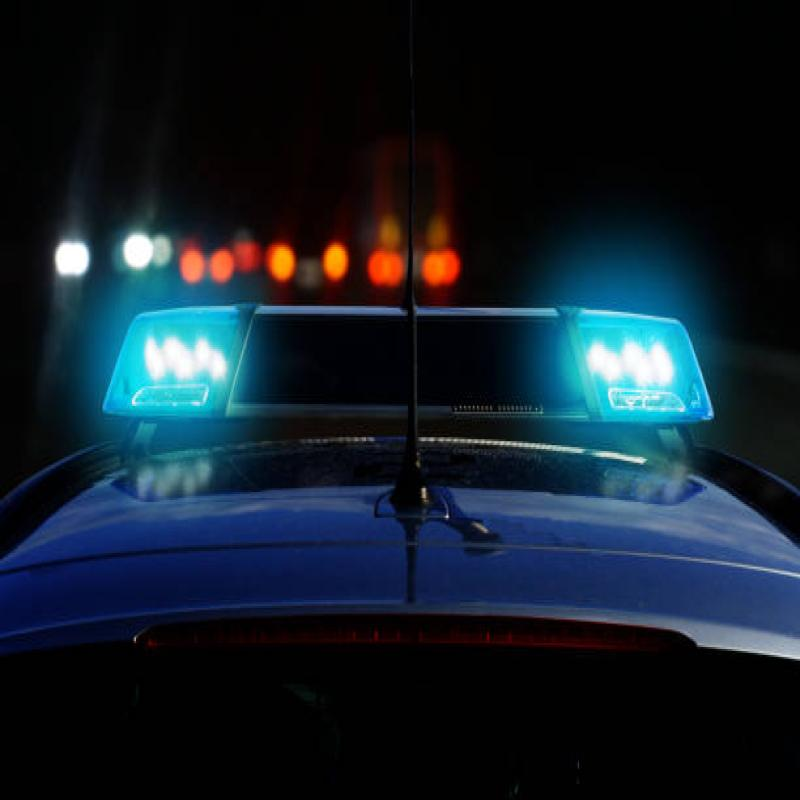AmbulanceSiren: (83, 261, 706, 502)
